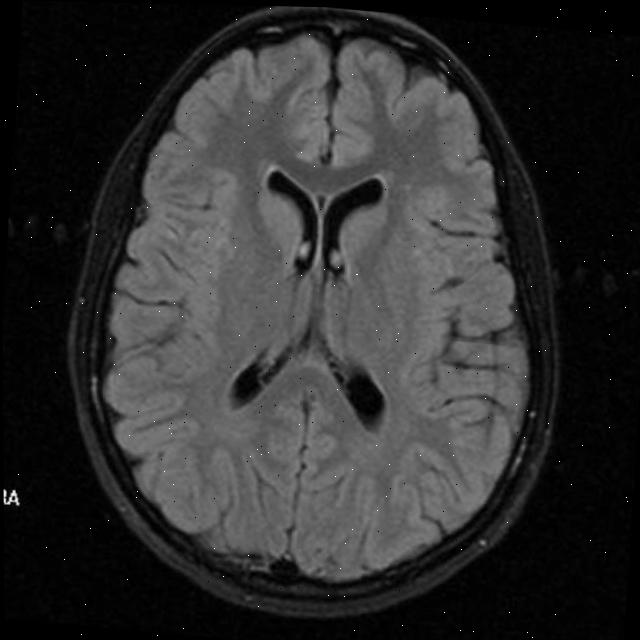NoTumor: (43, 1, 590, 640)
